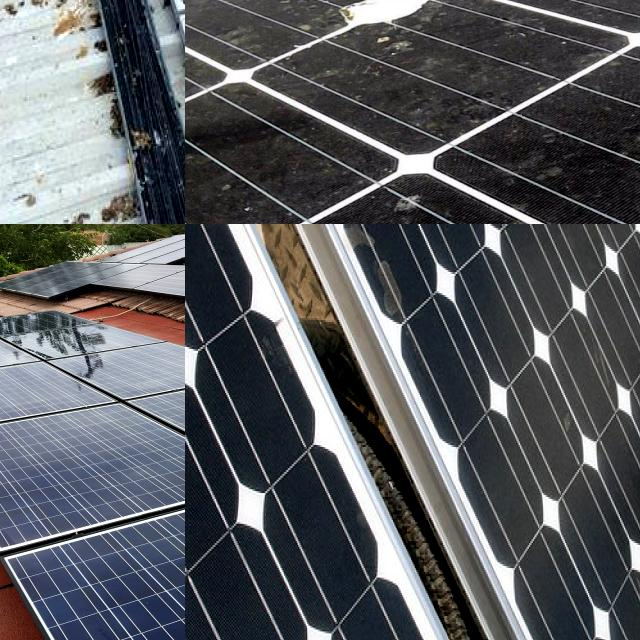bird: (324, 0, 429, 73), (108, 0, 185, 32), (130, 0, 185, 29)
crack: (185, 224, 589, 640), (261, 224, 640, 640), (0, 467, 185, 640), (0, 408, 185, 562), (98, 341, 185, 542)
